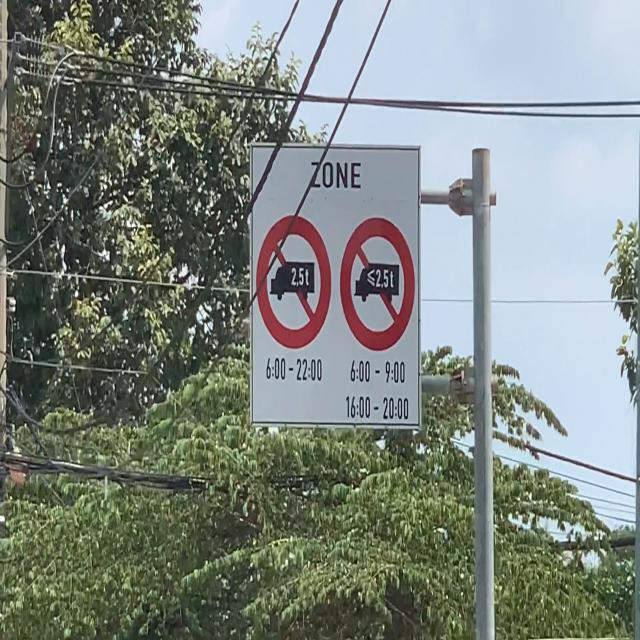Cam con lai: (339, 215, 416, 352), (255, 213, 332, 349)
